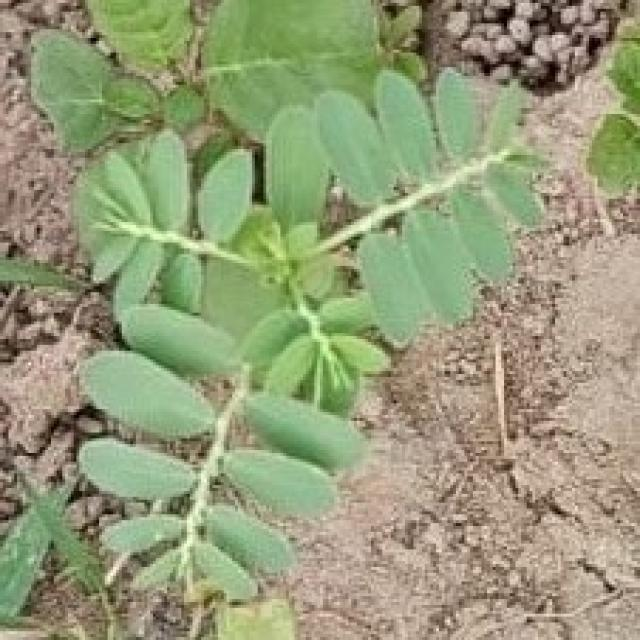plant: (0, 3, 542, 634), (586, 30, 640, 193)
